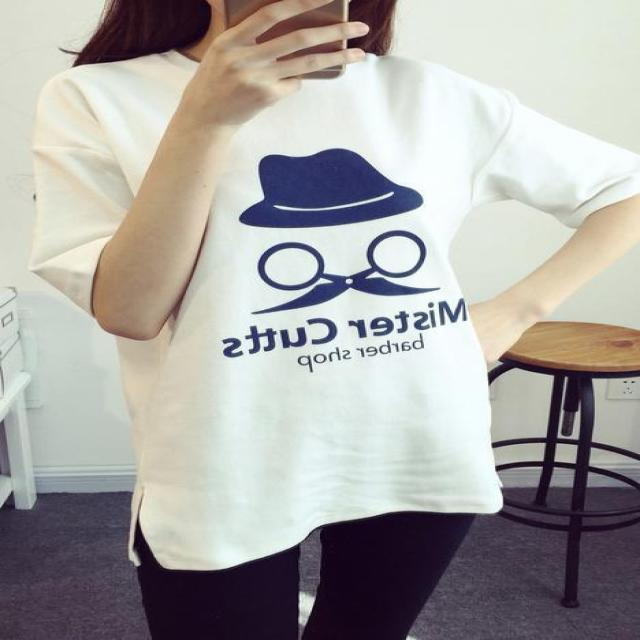short sleeve top: (30, 49, 637, 567)
trousers: (135, 403, 479, 638)
